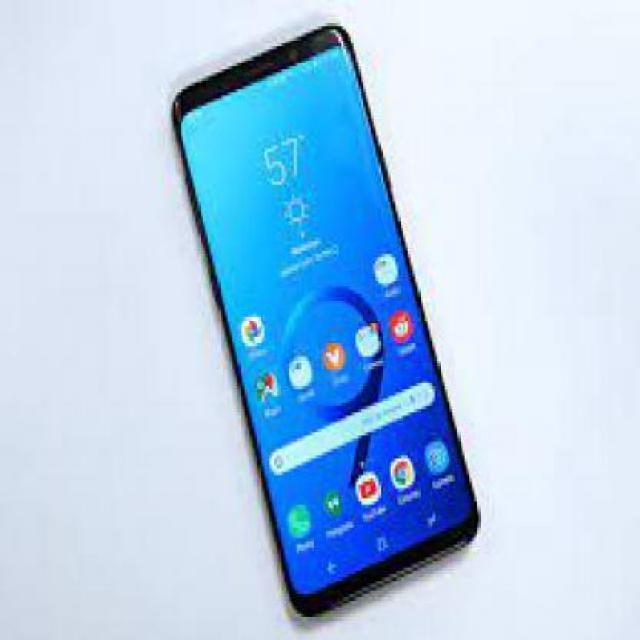phone: (170, 20, 482, 614)
